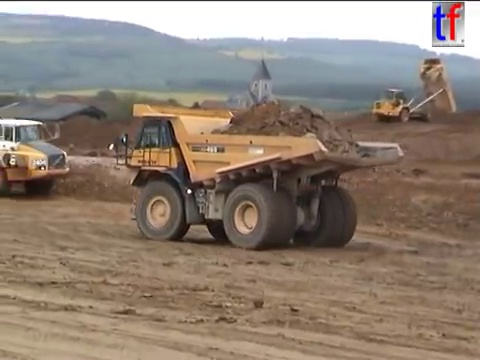truck: (107, 101, 405, 251), (1, 114, 75, 198), (370, 56, 457, 123)
